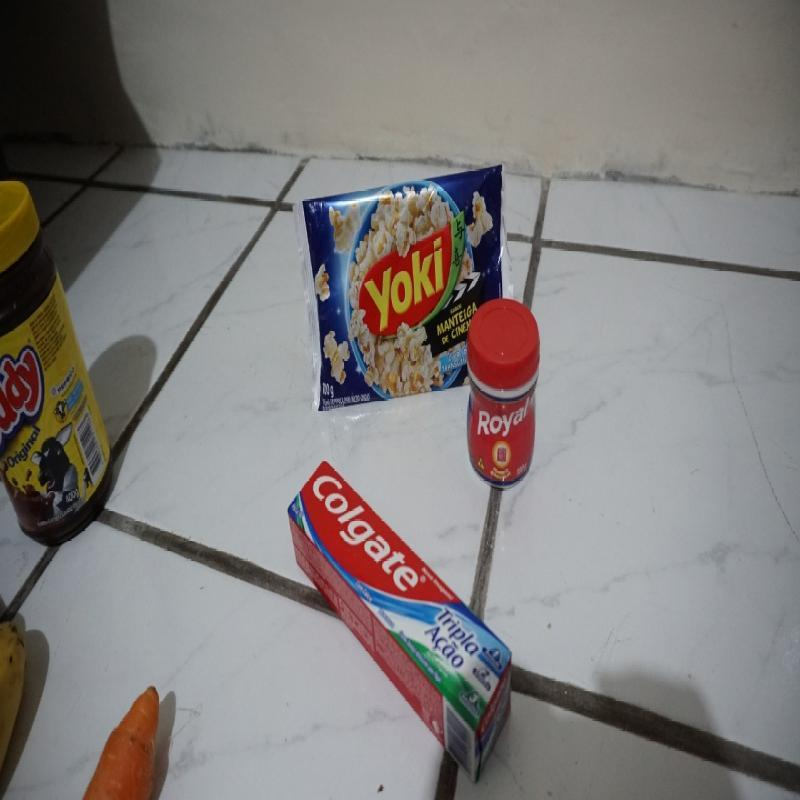Carrot: (79, 672, 169, 791)
Chocolate Powder: (0, 180, 110, 532)
Popcorn: (293, 177, 463, 407)
Toothpaste: (285, 485, 520, 768)
Yeast: (461, 304, 539, 488)
